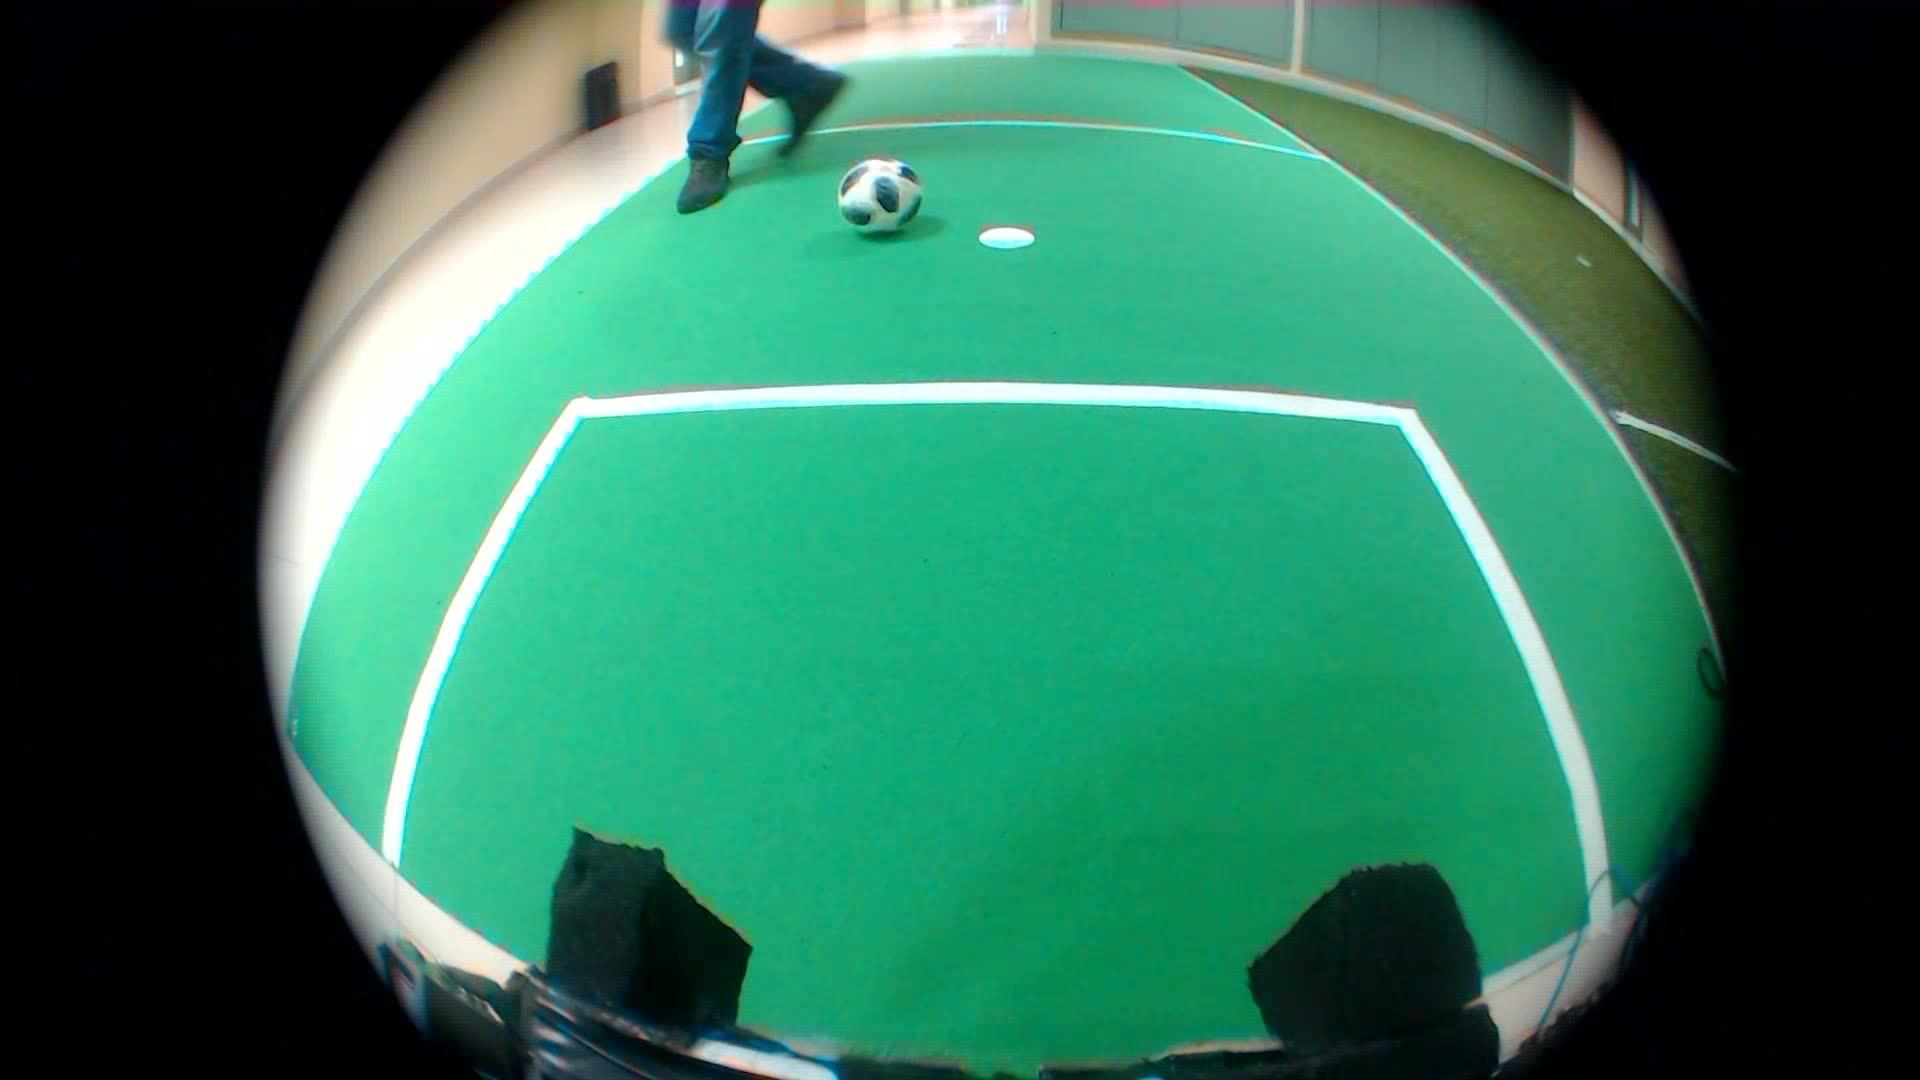ball: (825, 138, 926, 245)
